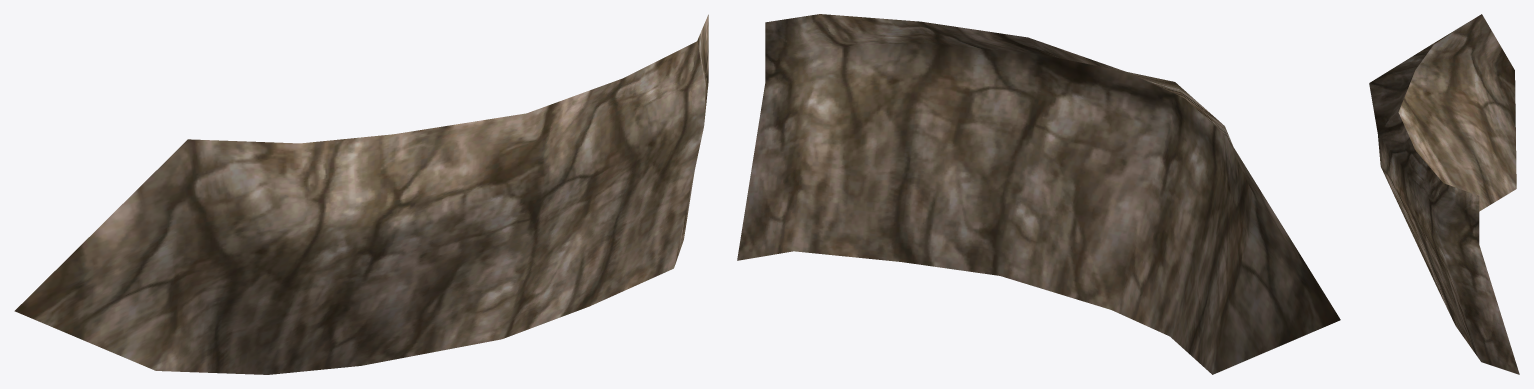
File: OVERHILL_A_01_OBJECT156.fbx
3 renders of one model, left to right at view 1: azimuth 30°, elevation 25°; view 2: azimuth 150°, elevation 25°; view 3: azimuth 270°, elevation 25°, orthographic. The views are drawn at different scales.
Parts seen in each view (by area): view 1: OVERHILL_A_01_OBJECT156; view 2: OVERHILL_A_01_OBJECT156; view 3: OVERHILL_A_01_OBJECT156.
Part boxes in pixels (<box>): OVERHILL_A_01_OBJECT156: <box>14,14,708,374</box>; OVERHILL_A_01_OBJECT156: <box>737,14,1340,374</box>; OVERHILL_A_01_OBJECT156: <box>1369,14,1519,374</box>.
Bounding box in the file's own units: 93761 × 32935 × 25308.
1 material, 1 textured.
